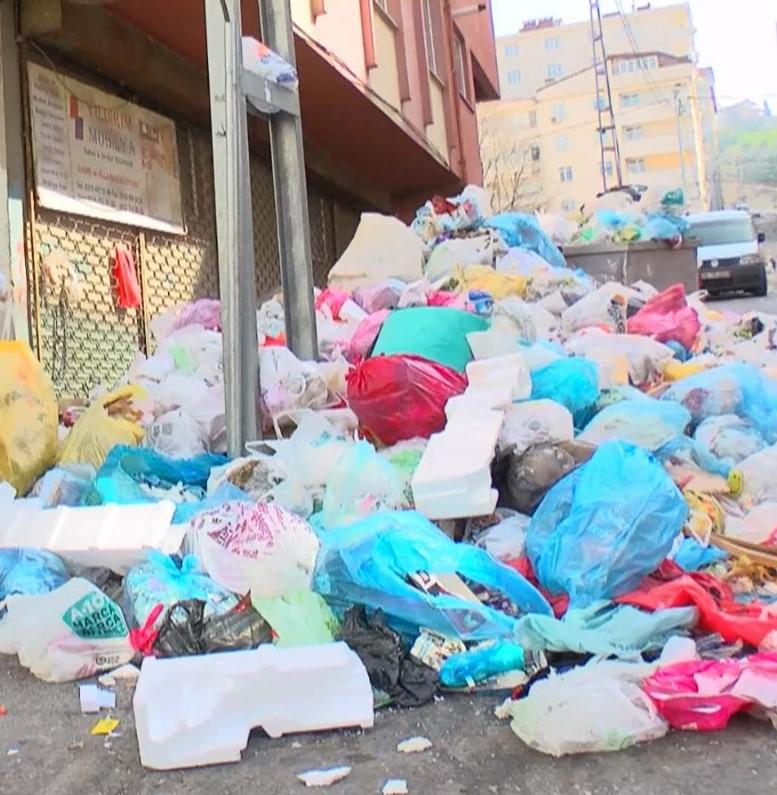Garbage: (203, 460, 594, 696), (396, 238, 689, 446), (520, 425, 708, 635), (670, 614, 777, 794)
